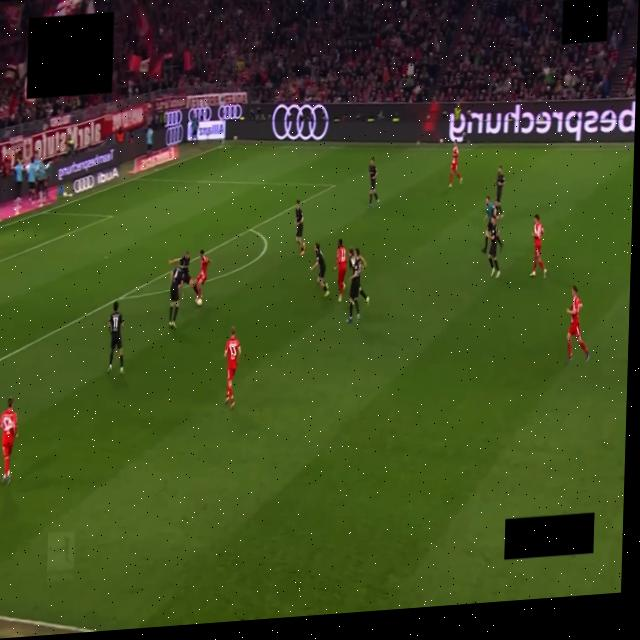ball: (196, 297, 202, 307)
player: (566, 285, 588, 361), (347, 249, 368, 323), (168, 252, 198, 298), (0, 398, 16, 484), (224, 327, 240, 409), (107, 302, 122, 373), (530, 215, 546, 278), (310, 243, 328, 296), (168, 266, 182, 329), (333, 238, 346, 301), (294, 199, 307, 257), (195, 249, 210, 299), (488, 217, 499, 278), (448, 146, 462, 188), (368, 158, 378, 208), (495, 166, 504, 217), (190, 110, 199, 141), (355, 248, 365, 273)
referee: (481, 196, 497, 253)
